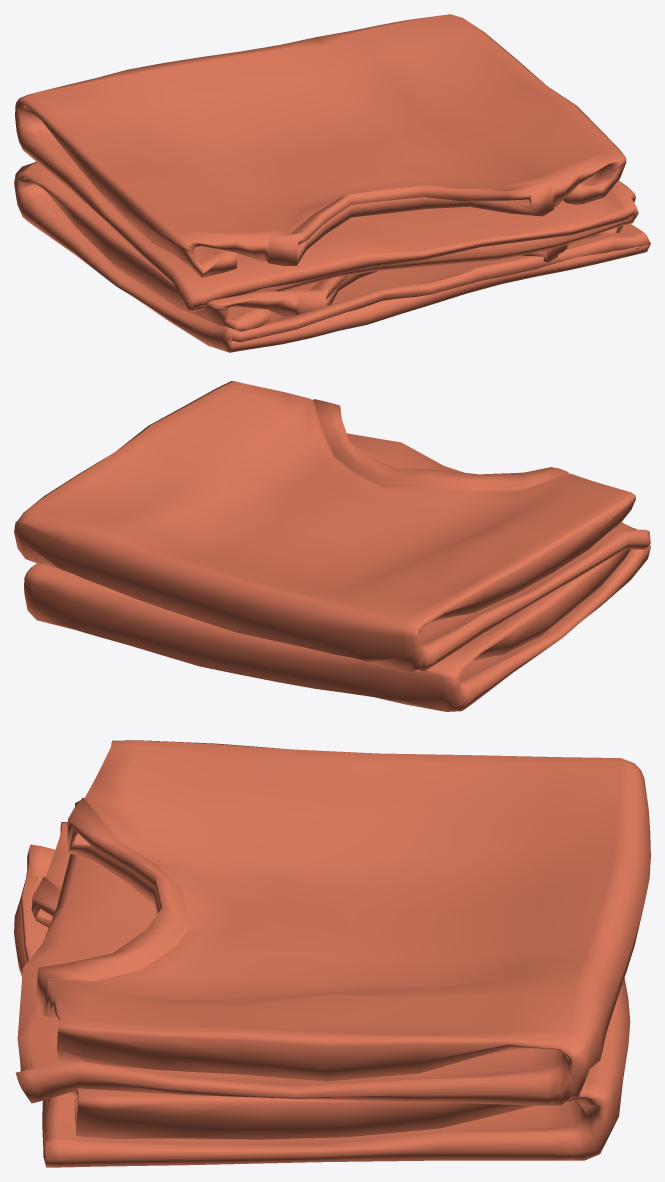
File: Folded_T_Shirt07.fbx
3 renders of one model, top to bottom at view 1: azimuth 30°, elevation 25°; view 2: azimuth 150°, elevation 25°; view 3: azimuth 270°, elevation 25°, orthographic. The views are drawn at different scales.
Visible parts, largest first — view 1: Folded_T_Shirt07; view 2: Folded_T_Shirt07; view 3: Folded_T_Shirt07.
Boxes of the visible parts, bbox=[...] form: Folded_T_Shirt07: bbox=[14, 14, 650, 352]; Folded_T_Shirt07: bbox=[14, 381, 650, 711]; Folded_T_Shirt07: bbox=[14, 740, 650, 1167].
Size of the model in its own units: 38.34 by 8.12 by 33.9.
